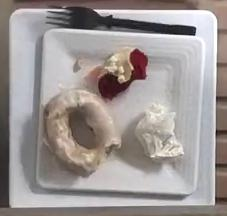donut: (46, 90, 121, 175), (98, 49, 148, 100)
